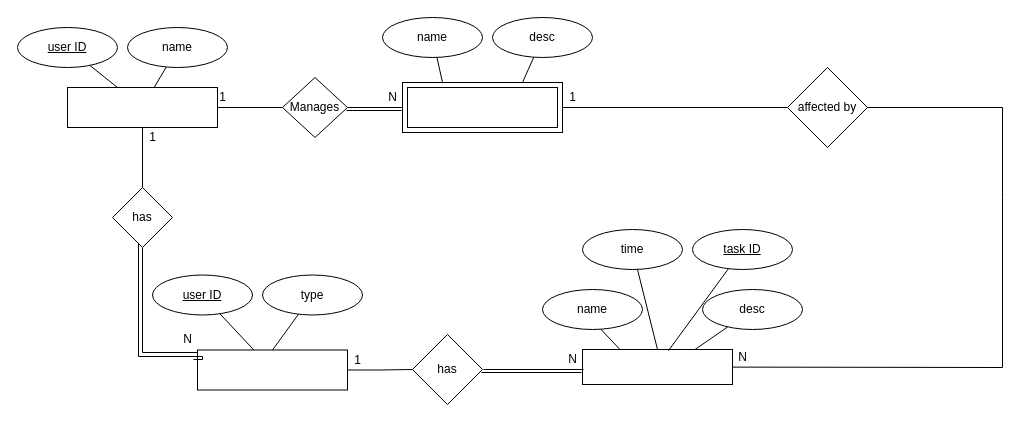
This 1021x422 diagram has some shape labels left out. The box of each missing label's shape, as (x1, y1, x2, y2) in pixels:
Goal: (406, 86, 558, 128)
schedule: (196, 349, 348, 390)
Task: (582, 348, 732, 384)
User: (66, 86, 218, 128)
